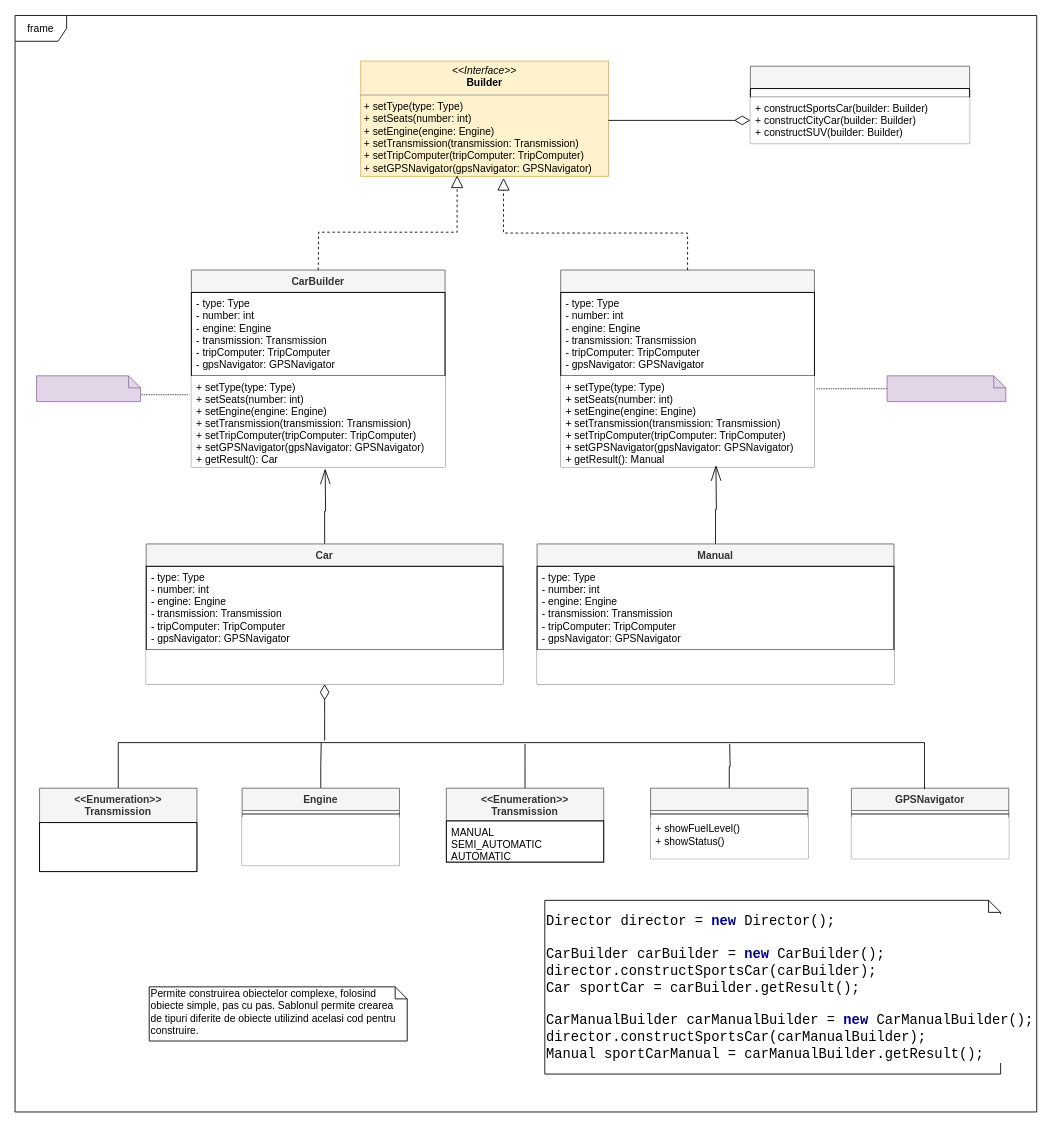
Image size: 1052x1127. Some labels were removed from this diagram. The shapes that lost their labels are listed below. From the top down, each one's box as (x1, y1, x2, y2) in pixels, then its label:
(749, 65, 970, 144): Director
(560, 269, 814, 467): CarManualBuilder
(36, 375, 141, 402): return new Car()
(886, 375, 1006, 402): return new Mnaual()
(146, 649, 503, 684): + Car(type, number, engine, transmission, tripComputer, gpsNavigator)
(537, 649, 894, 684): + Manual(type, number, engine, transmission, tripComputer, gpsNavigator)
(242, 817, 399, 865): + on() + off() + go()
(650, 787, 808, 859): TripComputer
(851, 817, 1008, 858): + getRoute(): String + setRoute(String)
(39, 822, 197, 872): CITY_CAR SPORTS_CAR SUV
